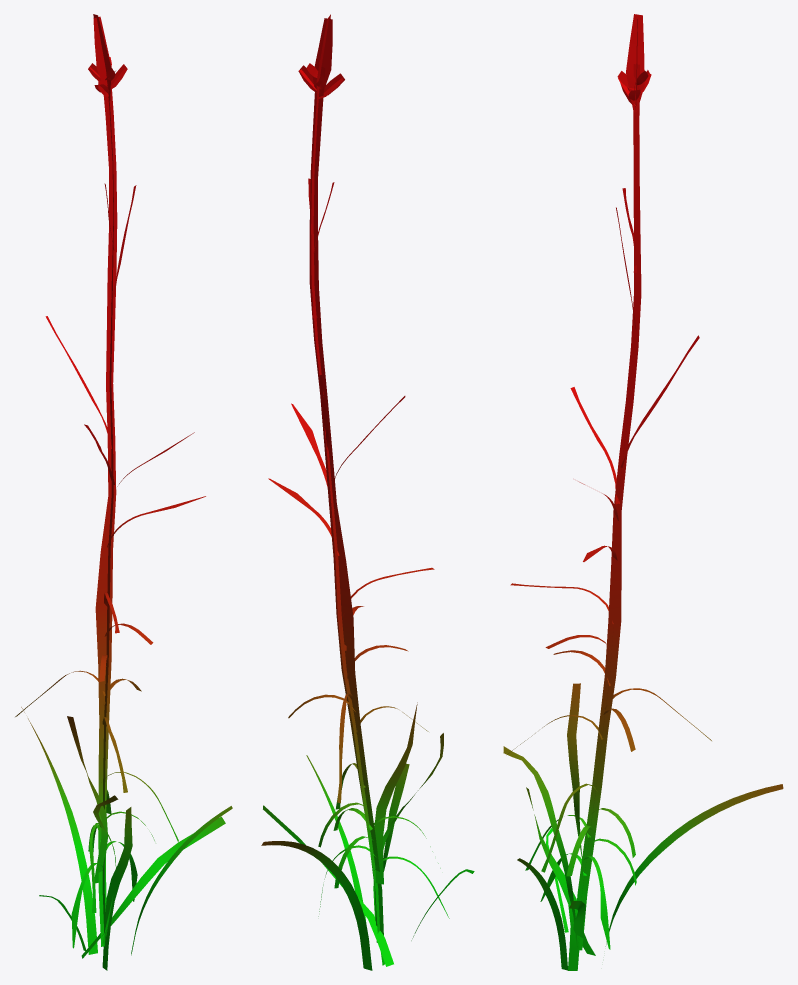
Rendered from tcfoejcr_Var5_LOD0.fbx.
3 views of the same model, side by side, from view 1: azimuth 30°, elevation 25°; view 2: azimuth 150°, elevation 25°; view 3: azimuth 270°, elevation 25° (orthographic). The views are drawn at different scales.
Parts seen in each view (by area): view 1: _a2ee_Var5_LOD0; view 2: _a2ee_Var5_LOD0; view 3: _a2ee_Var5_LOD0.
Part boxes in pixels (x1=…): _a2ee_Var5_LOD0: x1=15, y1=14, x2=232, y2=970; _a2ee_Var5_LOD0: x1=261, y1=14, x2=474, y2=970; _a2ee_Var5_LOD0: x1=503, y1=14, x2=783, y2=970.
Size of the model in its own units: 23.42 by 106 by 27.9.
